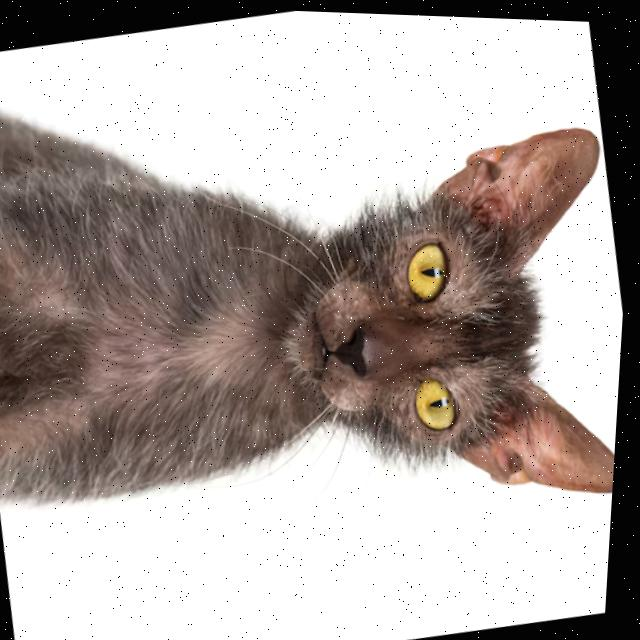Lykoi: (0, 0, 640, 599)
